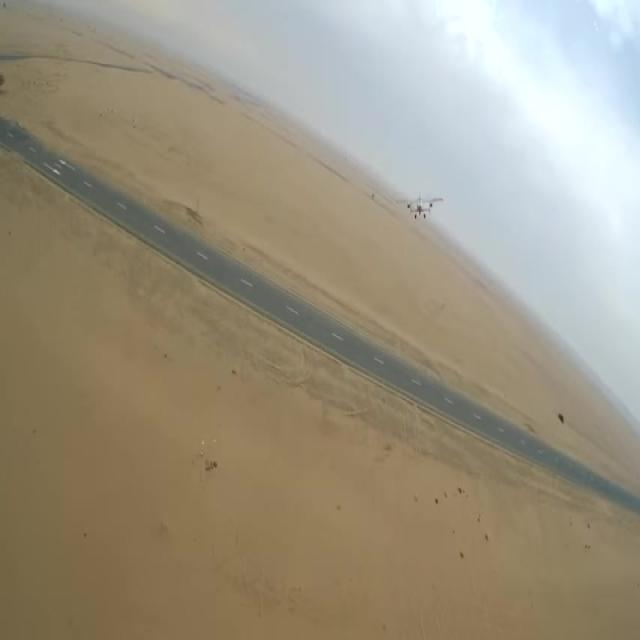iha: (396, 191, 444, 219)
